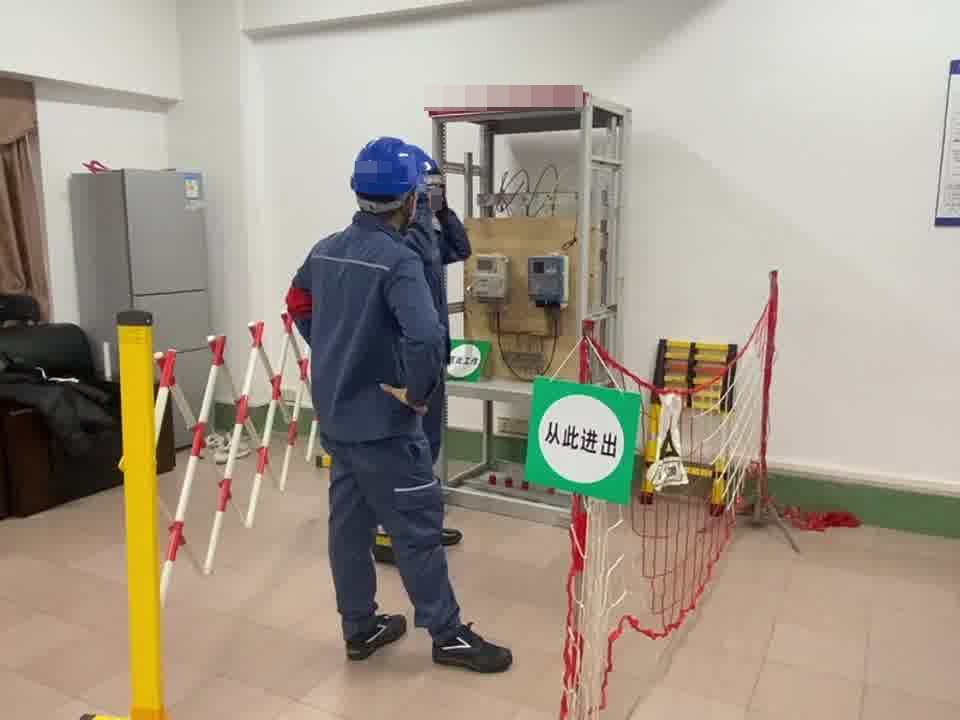badge: (284, 284, 315, 324)
downsuit: (326, 453, 465, 637)
fhalt: (411, 144, 446, 215)
halt: (349, 135, 422, 225)
hand: (380, 382, 425, 414)
intosign: (521, 377, 642, 502)
person: (278, 132, 494, 672)
upsuit: (285, 216, 453, 447)
worksign: (448, 341, 482, 375)
